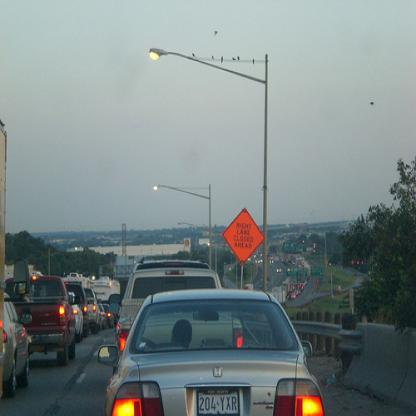car: (98, 289, 327, 416), (117, 268, 245, 350), (3, 277, 78, 366), (1, 290, 32, 400)
